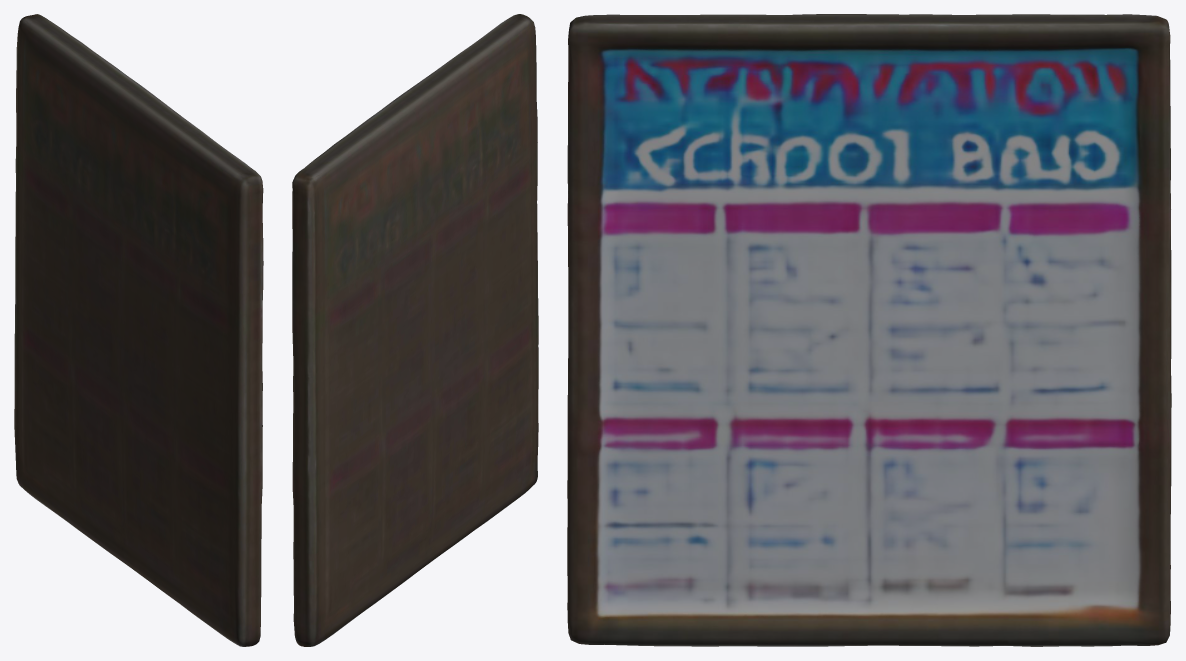
File: informationboard.fbx
The picture shows the model from 3 angles, left to right: view 1: azimuth 30°, elevation 25°; view 2: azimuth 150°, elevation 25°; view 3: azimuth 270°, elevation 25°; orthographic projection. The views are drawn at different scales.
Visible parts, largest first — view 1: mesh; view 2: mesh; view 3: mesh.
Part boxes in pixels (<box>): mesh: <box>14,14,263,646</box>; mesh: <box>292,14,538,646</box>; mesh: <box>567,14,1171,646</box>.
Bounding box in the file's own units: 7.21 × 99.85 × 87.37.
